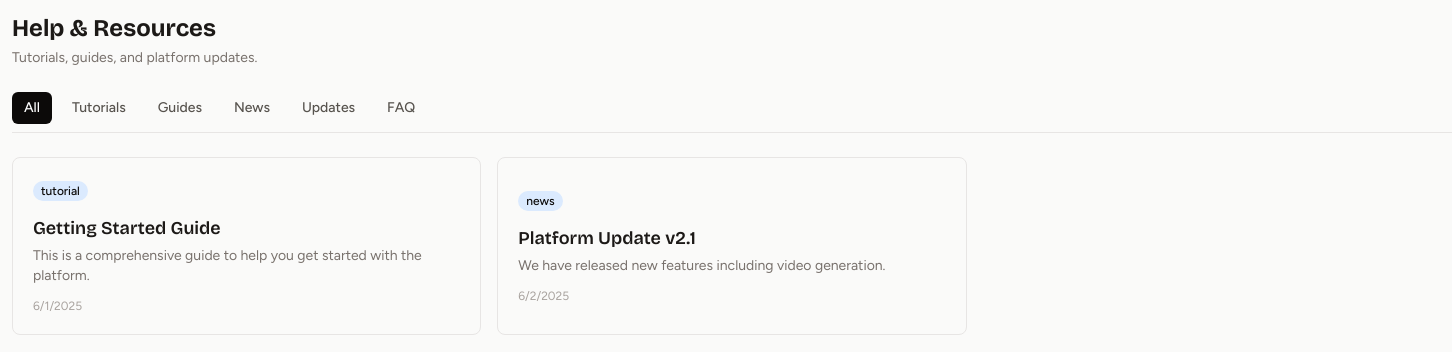
Test: ContentHub › filters articles by category
Check: the heading "Getting Started Guide" is shown, box [33, 217, 221, 239]
// Click on Tutorials tab to filter
Step 1. Click the button "Tutorials" → (99, 108), box [60, 92, 138, 124]
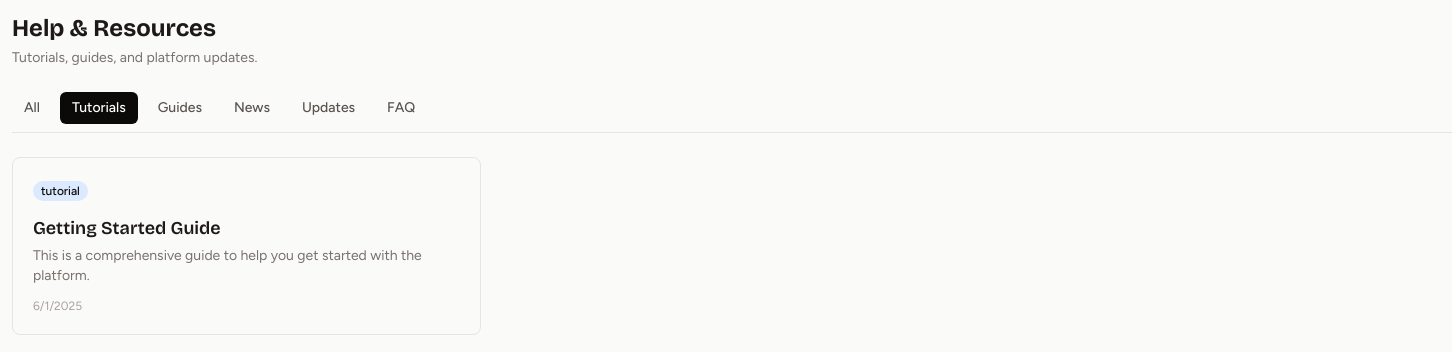
Check: the heading "Getting Started Guide" is shown, box [33, 217, 221, 239]
Check: the button "Platform Update v2.1" is gone
